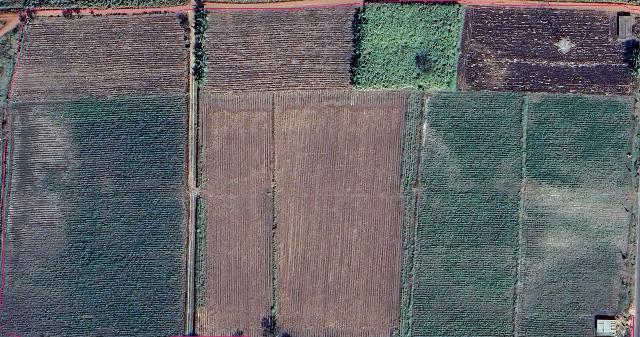EmptyFarms: (273, 91, 406, 336), (203, 84, 272, 336), (457, 9, 634, 98)
Farms: (1, 92, 187, 336), (400, 89, 522, 337), (515, 97, 636, 336), (11, 14, 188, 100), (201, 8, 358, 90), (354, 3, 462, 88)
